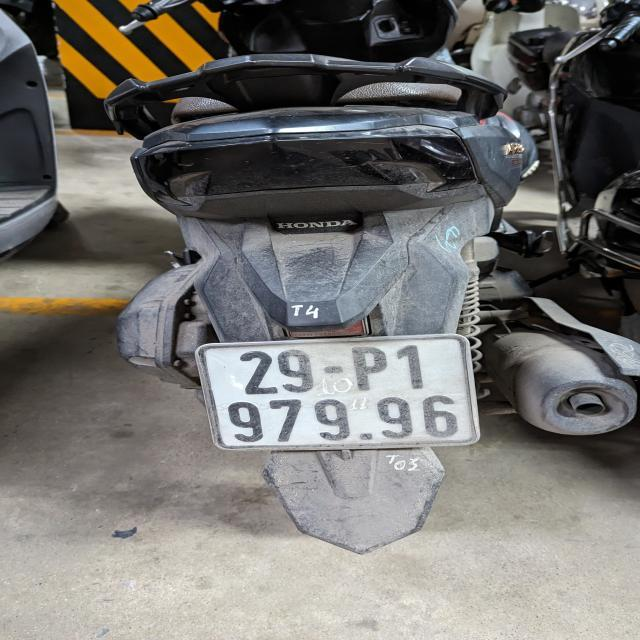license: (194, 332, 481, 451)
